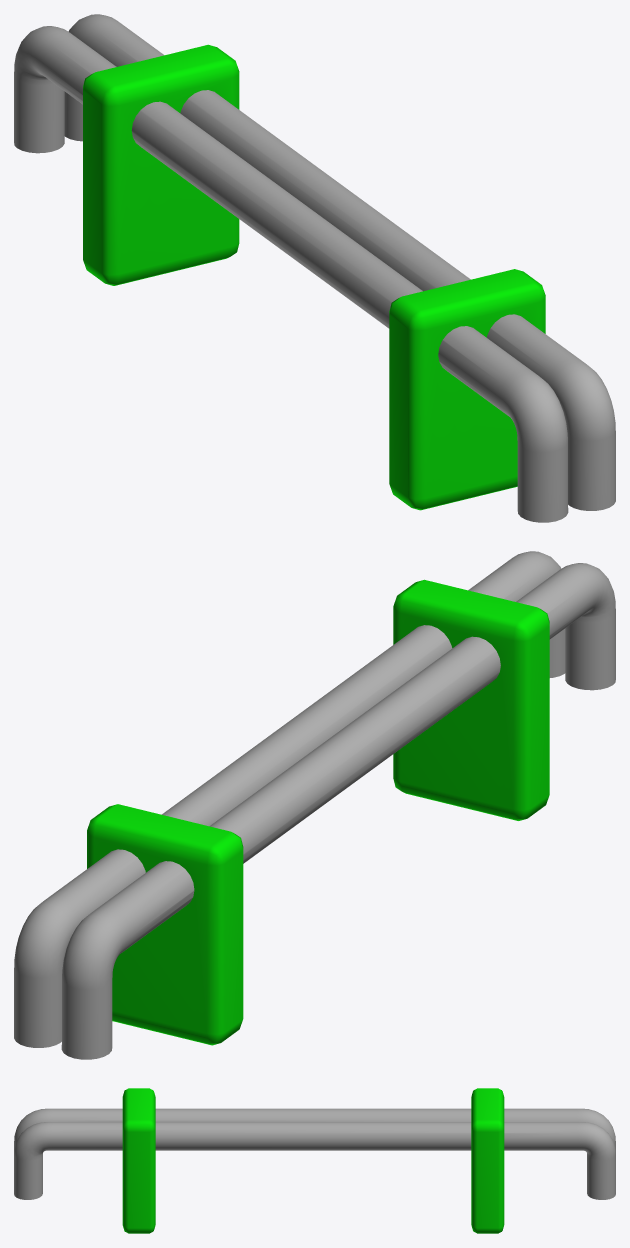
File: Pipe_1.fbx
The picture shows the model from 3 angles, top to bottom: view 1: azimuth 30°, elevation 25°; view 2: azimuth 150°, elevation 25°; view 3: azimuth 270°, elevation 25°; orthographic projection. The views are drawn at different scales.
Visible parts, largest first — view 1: Pipe_1; view 2: Pipe_1; view 3: Pipe_1.
Part boxes in pixels (<box>): Pipe_1: <box>14,14,615,522</box>; Pipe_1: <box>14,551,615,1059</box>; Pipe_1: <box>14,1088,615,1233</box>.
Bounding box in the file's own units: 33.39 × 46.39 × 222.
